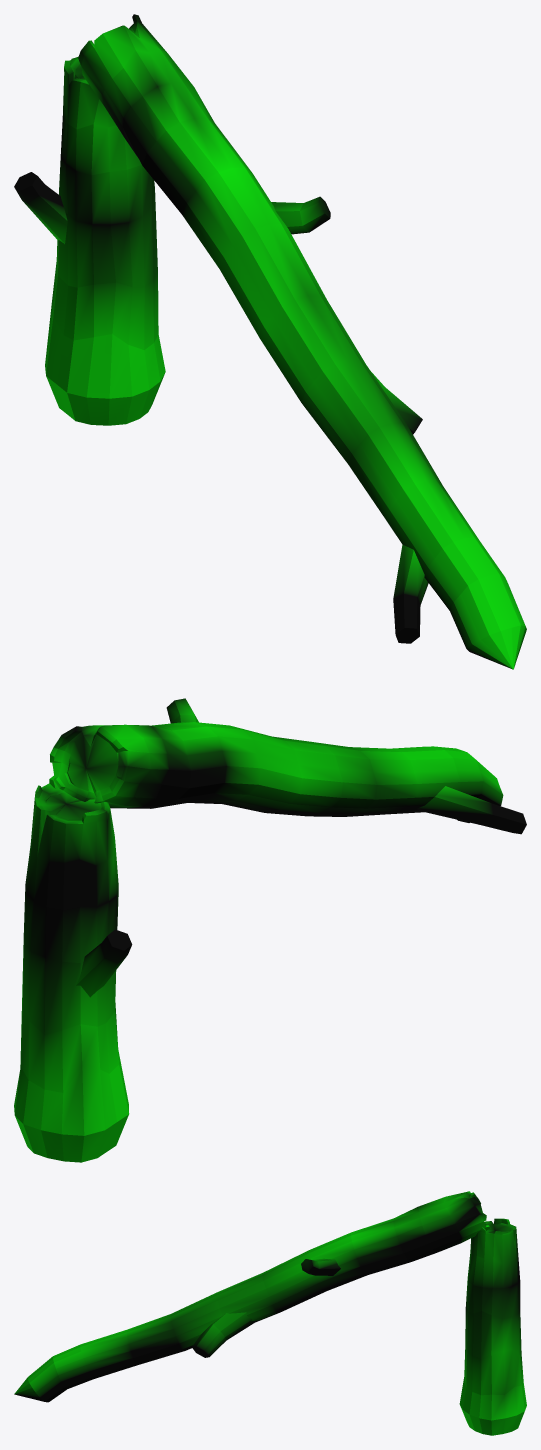
Rendered from SM_Collision_FirFallen2.fbx.
3 renders of one model, top to bottom at view 1: azimuth 30°, elevation 25°; view 2: azimuth 150°, elevation 25°; view 3: azimuth 270°, elevation 25°, orthographic. The views are drawn at different scales.
Parts seen in each view (by area): view 1: Collision_FirFallen2; view 2: Collision_FirFallen2; view 3: Collision_FirFallen2.
Part boxes in pixels (x1,y1,x2,y2): Collision_FirFallen2: [14, 14, 526, 669]; Collision_FirFallen2: [14, 698, 526, 1162]; Collision_FirFallen2: [14, 1191, 526, 1435].
Bounding box in the file's own units: 195 × 1028 × 509.
